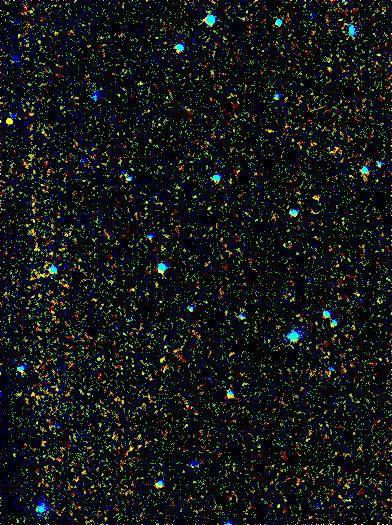star: (0, 106, 26, 136)
